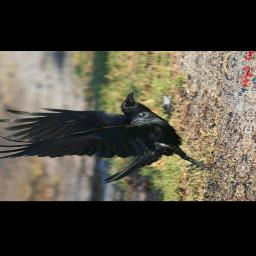Crow: (0, 85, 227, 189)
